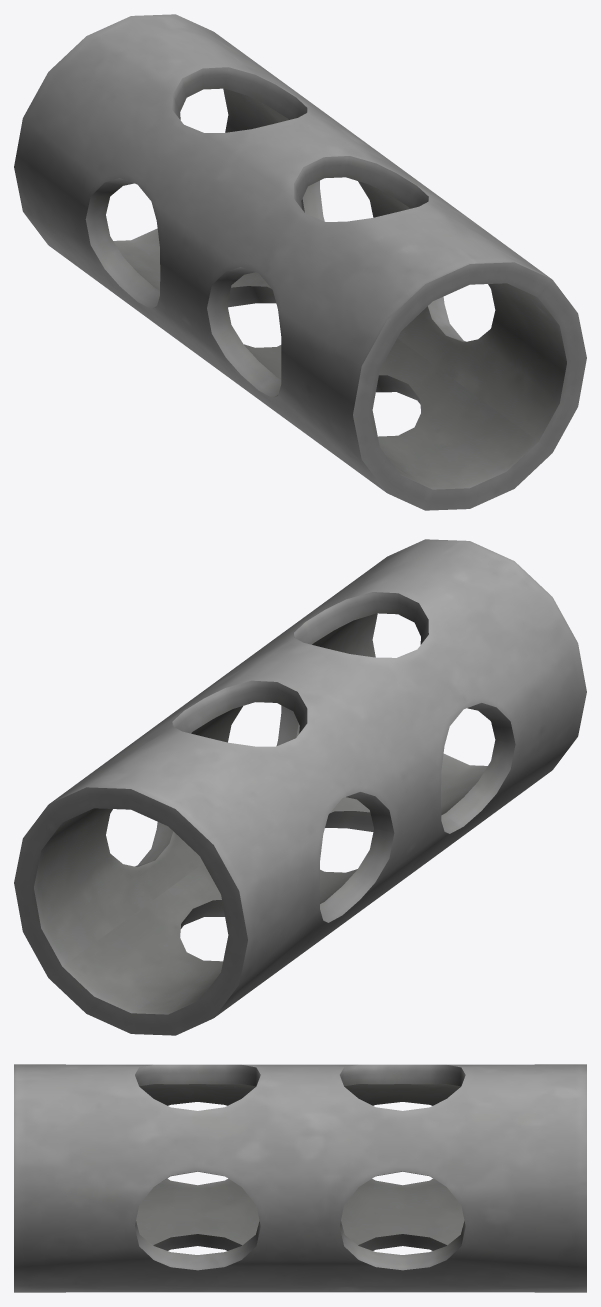
Rendered from IG_Acc_Muzzle_SMG_DAM_1.fbx.
3 views of the same model, one above another, from view 1: azimuth 30°, elevation 25°; view 2: azimuth 150°, elevation 25°; view 3: azimuth 270°, elevation 25° (orthographic). The views are drawn at different scales.
Parts seen in each view (by area): view 1: Muzzle_SMG_DAM_1; view 2: Muzzle_SMG_DAM_1; view 3: Muzzle_SMG_DAM_1.
Part boxes in pixels (left/top/right/bottom): Muzzle_SMG_DAM_1: left=14, top=14, right=586, bottom=510; Muzzle_SMG_DAM_1: left=14, top=539, right=586, bottom=1035; Muzzle_SMG_DAM_1: left=14, top=1064, right=586, bottom=1292.
Size of the model in its own units: 0.0661 by 0.0661 by 0.1657.
